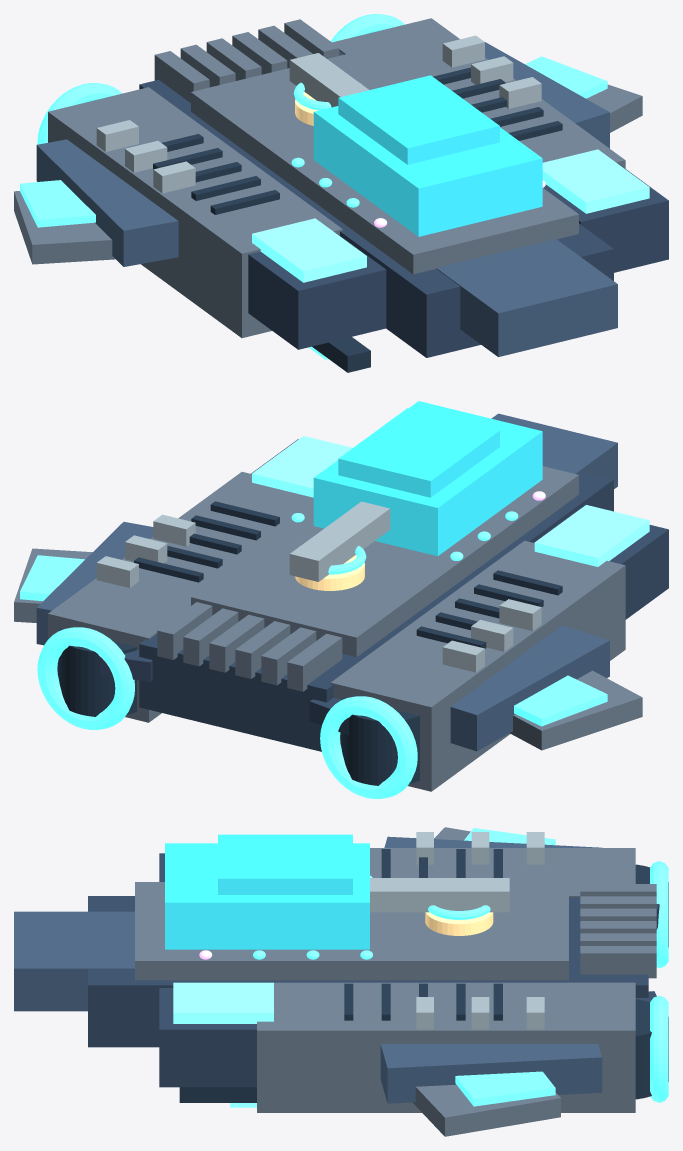
Rendered from ship.glb.
3 renders of one model, top to bottom at view 1: azimuth 30°, elevation 25°; view 2: azimuth 150°, elevation 25°; view 3: azimuth 270°, elevation 25°, orthographic. The views are drawn at different scales.
Parts seen in each view (by area): view 1: PORT / turbo nacelle, 02 / carbon deck, 04 / cockpit lower canopy, 03 / polished nose, 01 / keel • unibody, PORT / lateral intakes, 05 / canopy upper, STARBOARD / turbo nacelle, PORT / wing root, STARBOARD / lateral intakes, PORT / intake spine, STARBOARD / intake spine (+26 smaller); view 2: PORT / turbo nacelle, 02 / carbon deck, 01 / keel • unibody, 04 / cockpit lower canopy, STARBOARD / turbo nacelle, 05 / canopy upper, PORT / wing root, PORT / circular thruster, STARBOARD / circular thruster, PORT / intake spine, 06 / cockpit armored spine, PORT / swept blade (+31 smaller); view 3: STARBOARD / turbo nacelle, 02 / carbon deck, 04 / cockpit lower canopy, 03 / polished nose, 01 / keel • unibody, STARBOARD / wing root, 05 / canopy upper, PORT / turbo nacelle, STARBOARD / lateral intakes, 06 / cockpit armored spine, STARBOARD / swept blade, STARBOARD / intake spine (+21 smaller).
Boxes of the visible parts, x1,y1,x2,y2 form: PORT / turbo nacelle: (48, 87, 342, 338); 02 / carbon deck: (191, 51, 578, 274); 04 / cockpit lower canopy: (313, 106, 542, 236); 03 / polished nose: (436, 239, 617, 356); 01 / keel • unibody: (139, 51, 613, 357); PORT / lateral intakes: (248, 233, 386, 349); 05 / canopy upper: (338, 75, 499, 164); STARBOARD / turbo nacelle: (332, 18, 625, 168); PORT / wing root: (36, 139, 178, 266); STARBOARD / lateral intakes: (543, 164, 668, 272); PORT / intake spine: (252, 218, 366, 282); STARBOARD / intake spine: (542, 149, 649, 213); PORT / turbo nacelle: (330, 540, 625, 791); 02 / carbon deck: (191, 466, 578, 657); 01 / keel • unibody: (139, 471, 613, 751); 04 / cockpit lower canopy: (313, 401, 542, 556); STARBOARD / turbo nacelle: (48, 472, 313, 722); 05 / canopy upper: (338, 408, 499, 497); PORT / wing root: (450, 625, 609, 751); PORT / circular thruster: (320, 696, 417, 798); STARBOARD / circular thruster: (37, 627, 134, 729); PORT / intake spine: (534, 505, 649, 566); 06 / cockpit armored spine: (289, 501, 390, 581); PORT / swept blade: (510, 670, 642, 750); STARBOARD / turbo nacelle: (257, 982, 635, 1112); 02 / carbon deck: (135, 882, 568, 980); 04 / cockpit lower canopy: (165, 843, 369, 949); 03 / polished nose: (14, 911, 134, 1011); 01 / keel • unibody: (88, 896, 648, 1047); STARBOARD / wing root: (380, 1044, 602, 1103); 05 / canopy upper: (218, 834, 352, 894); PORT / turbo nacelle: (370, 848, 635, 897); STARBOARD / lateral intakes: (159, 988, 256, 1087); 06 / cockpit armored spine: (370, 878, 509, 912); STARBOARD / swept blade: (412, 1084, 560, 1136); STARBOARD / intake spine: (173, 982, 273, 1023).
Size of the model in its own units: 4.23 by 1.31 by 4.03.
